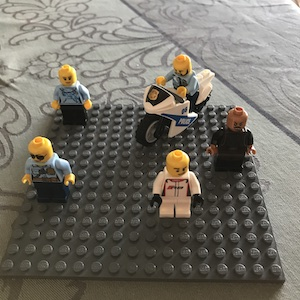Lego: (20, 135, 75, 204), (150, 149, 200, 221), (207, 107, 255, 173), (49, 63, 93, 128), (161, 52, 200, 118)
